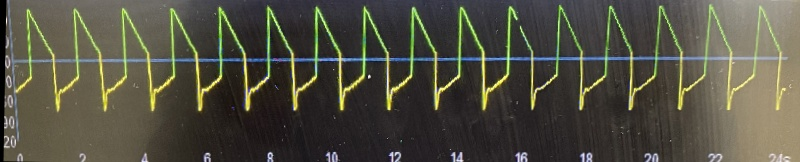peepi: (19, 0, 796, 116)
